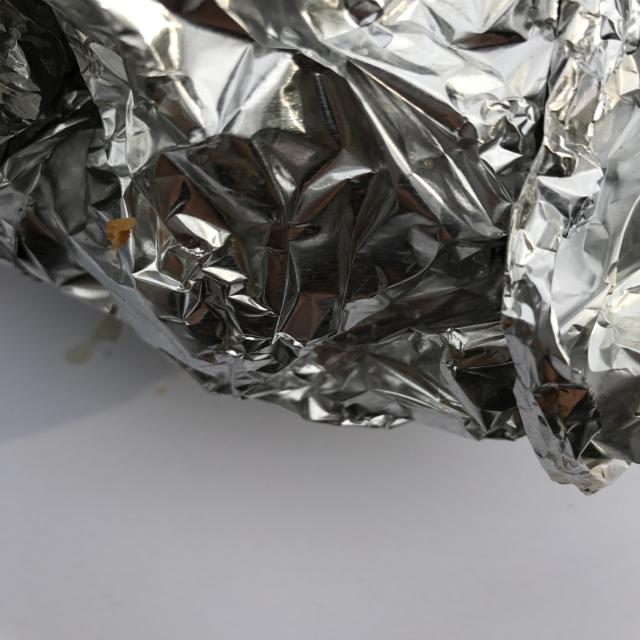metal: (1, 0, 639, 496)
